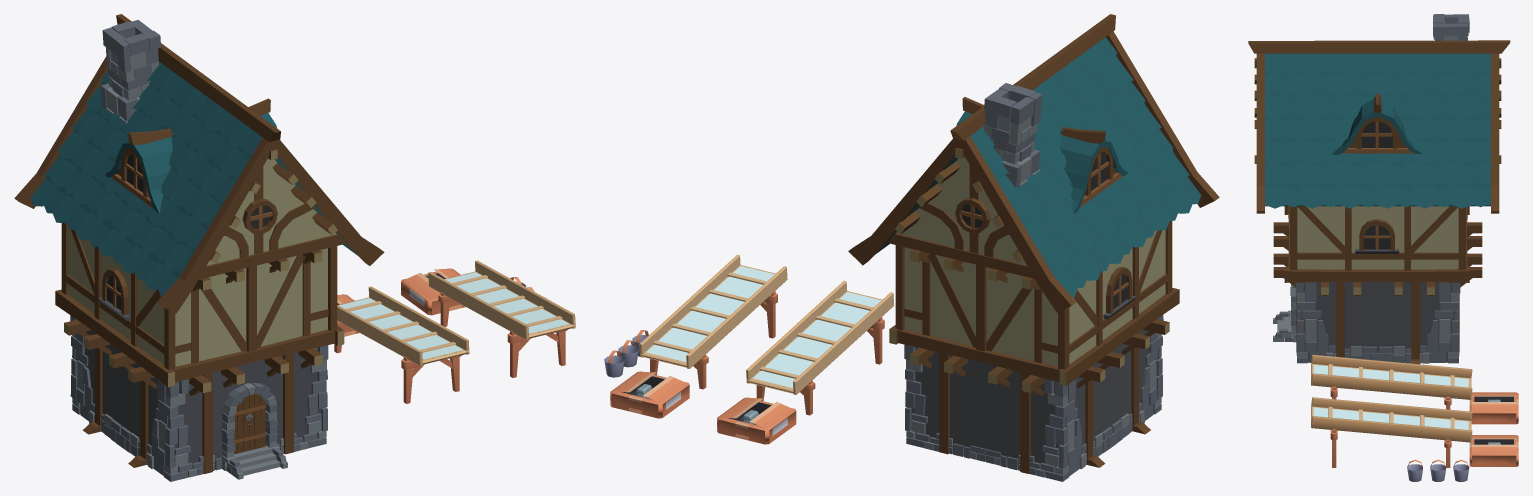
Rendered from london_workshop_tin.glb.
3 views of the same model, side by side, from view 1: azimuth 30°, elevation 25°; view 2: azimuth 150°, elevation 25°; view 3: azimuth 270°, elevation 25° (orthographic). The views are drawn at different scales.
Parts seen in each view (by area): view 1: House_1, Wood_Plank_A (×4), Sluice shallow water surface (×2), wood-support (×2), box-open; view 2: House_1, Sluice shallow water surface (×2), Wood_Plank_A (×4), box-open (×2); view 3: House_1, Wood_Plank_A (×4), box-open (×2), Sluice shallow water surface (×2).
Part boxes in pixels (x1,y1,x2,y2): House_1: (14, 14, 384, 481); Wood_Plank_A (×4): (337, 260, 575, 365); Sluice shallow water surface (×2): (339, 272, 569, 359); wood-support (×2): (401, 329, 567, 403); box-open: (401, 268, 465, 315); House_1: (848, 14, 1219, 481); Sluice shallow water surface (×2): (646, 266, 881, 387); Wood_Plank_A (×4): (639, 254, 894, 394); box-open (×2): (610, 371, 796, 444); House_1: (1248, 14, 1510, 364); Wood_Plank_A (×4): (1311, 354, 1472, 442); box-open (×2): (1469, 392, 1518, 466); Sluice shallow water surface (×2): (1313, 365, 1468, 429).
Bounding box in the file's own units: 21.08 × 15.26 × 12.35.
Materials: 15 (5 with a texture image).
